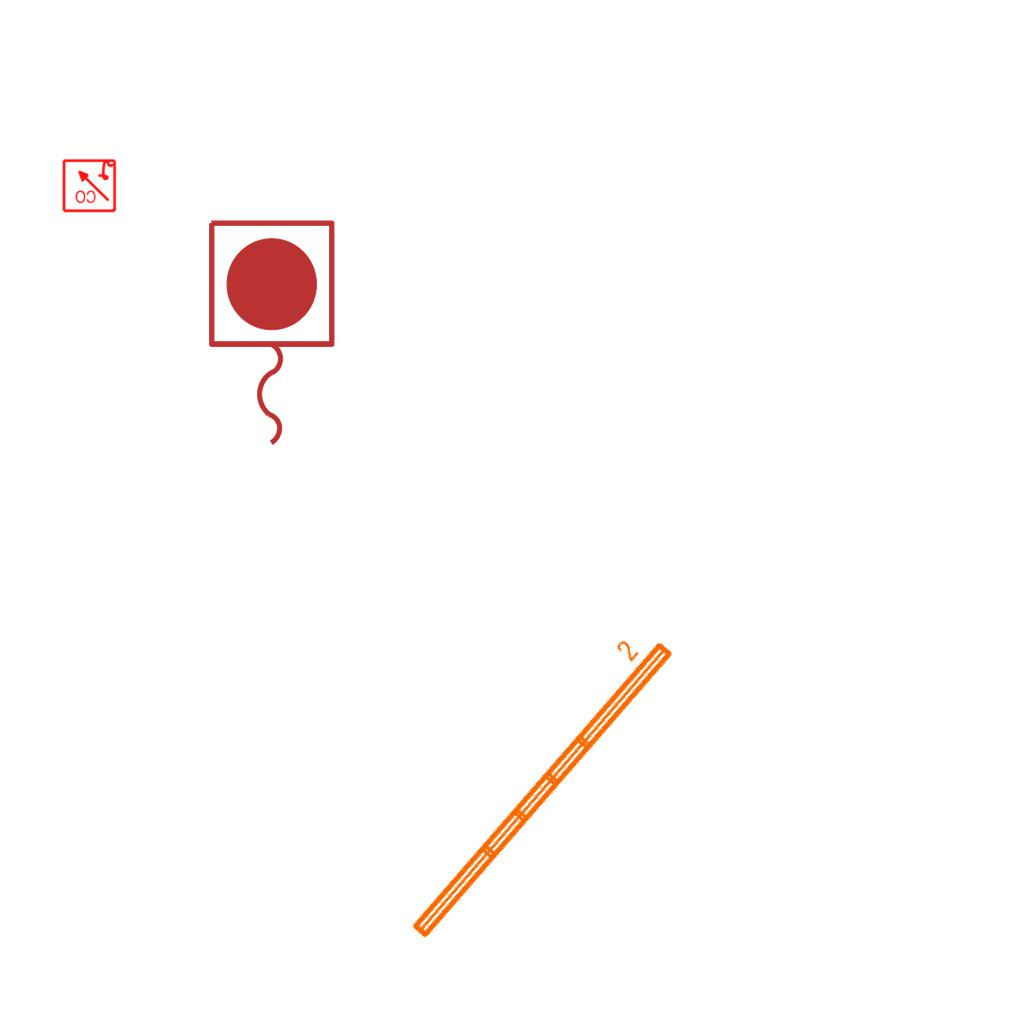Ambulanz_Pendelleuchte_LED: (384, 617, 681, 947)
ROA_Rauchmelder_optisch_mit_Signalgeber_(Sockelsirene): (61, 157, 117, 213)
Zugtaster: (198, 212, 342, 456)
